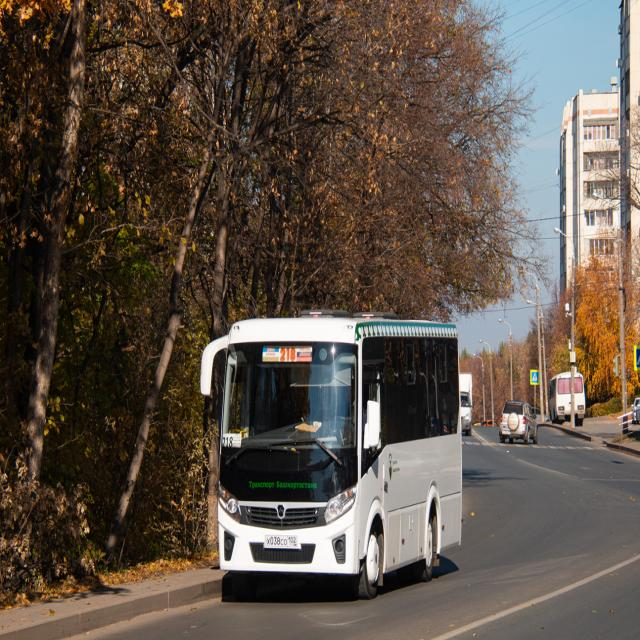number-of-bus: (280, 348, 297, 363), (223, 436, 234, 450)
